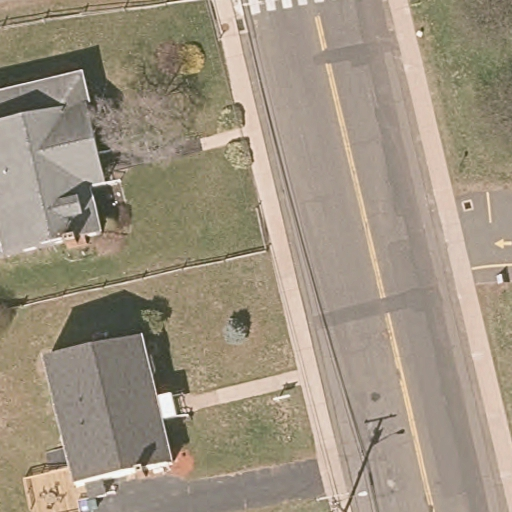DT: (315, 487, 368, 512)
